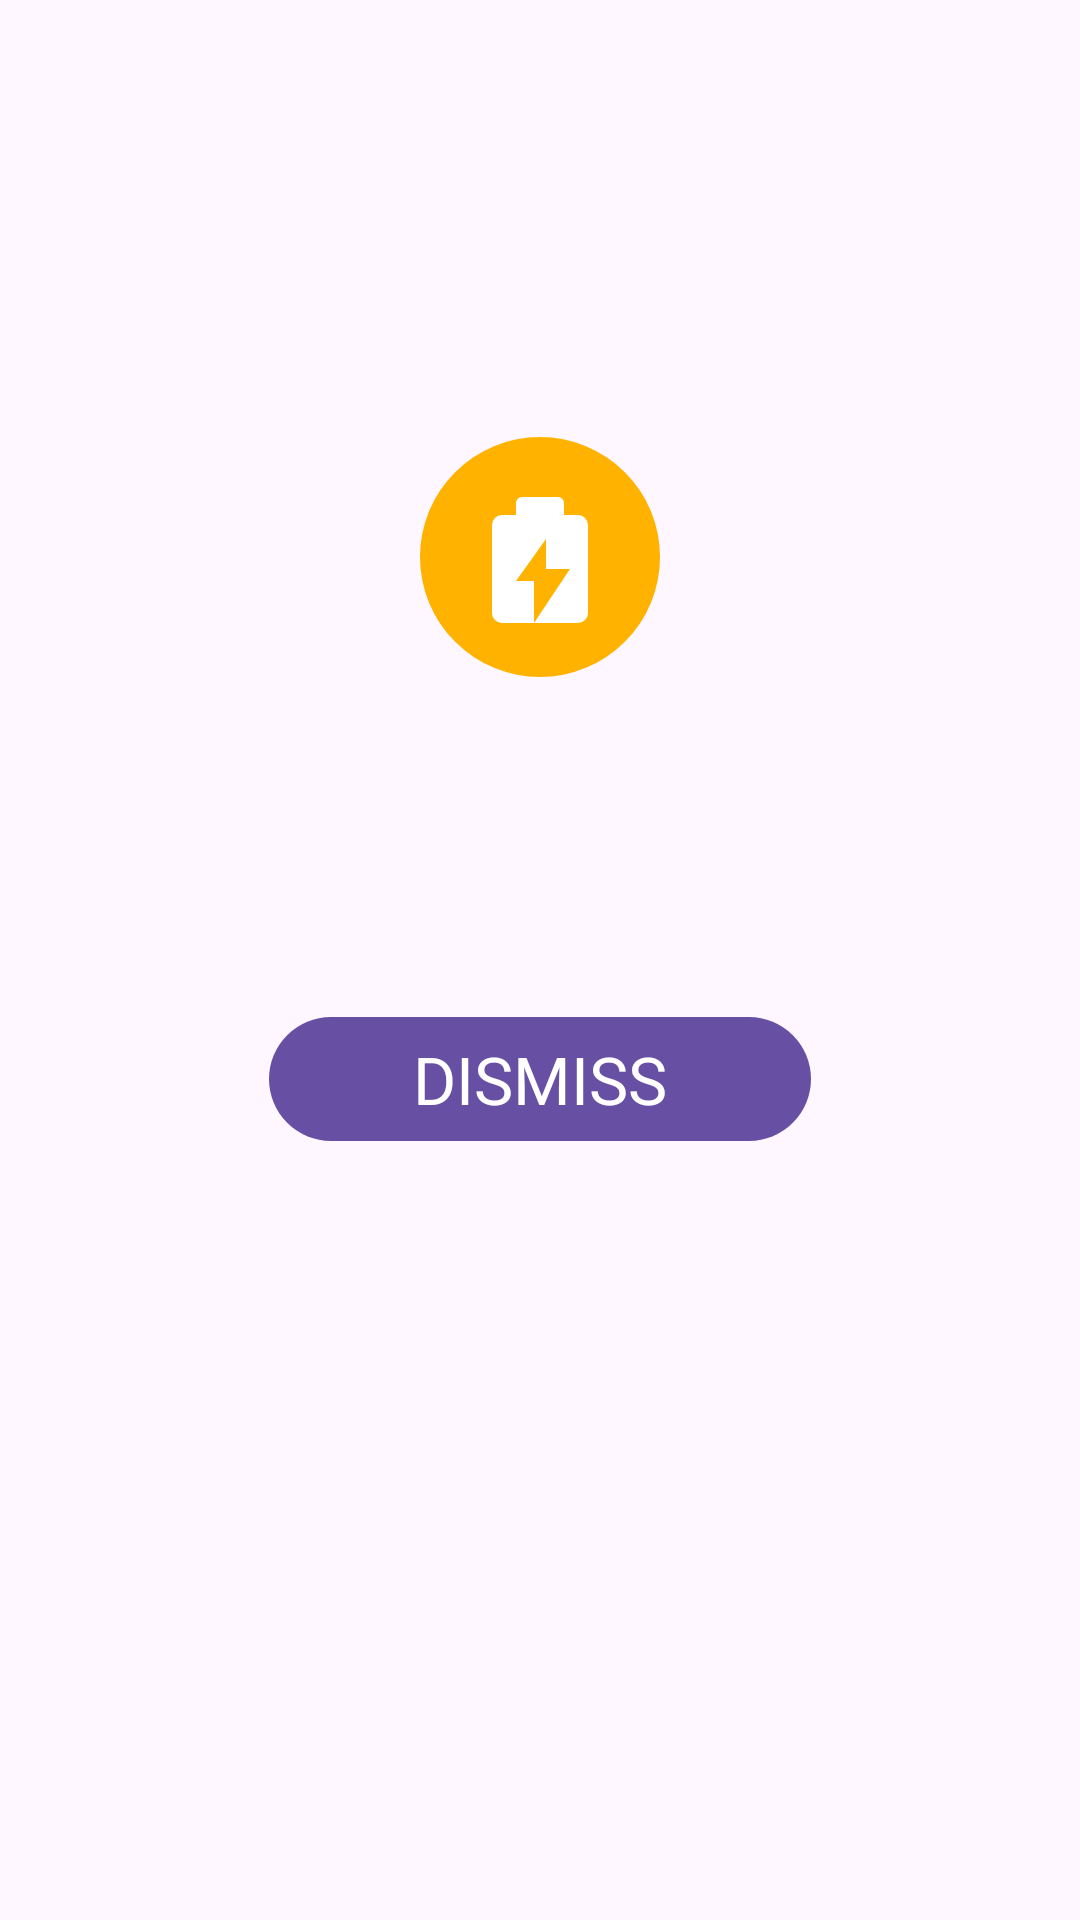

Icon click points for this 1080×1920 phone screenshot, format (x=x, y=y):
Battery alert: (x=540, y=557)
